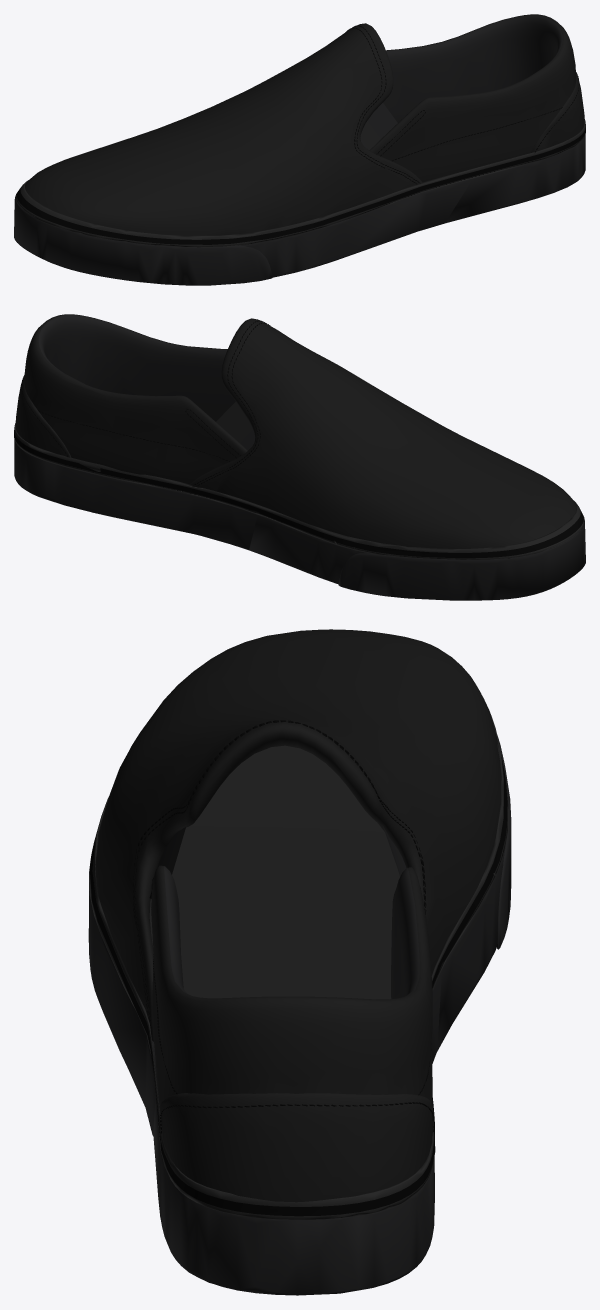
The model's file is sepatu.glb.
3 views of the same model, one above another, from view 1: azimuth 30°, elevation 25°; view 2: azimuth 150°, elevation 25°; view 3: azimuth 270°, elevation 25° (orthographic). The views are drawn at different scales.
Parts seen in each view (by area): view 1: Object_4, Object_5; view 2: Object_4, Object_5; view 3: Object_4, Object_5.
Part boxes in pixels (bbox=[...]): Object_4: bbox=[14, 14, 585, 285]; Object_5: bbox=[346, 25, 579, 184]; Object_4: bbox=[14, 314, 585, 600]; Object_5: bbox=[21, 320, 270, 486]; Object_4: bbox=[88, 629, 511, 1295]; Object_5: bbox=[133, 720, 433, 1133].
Size of the model in its own units: 4.07 by 1.33 by 1.38.
Materials: 2 (2 with a texture image).
